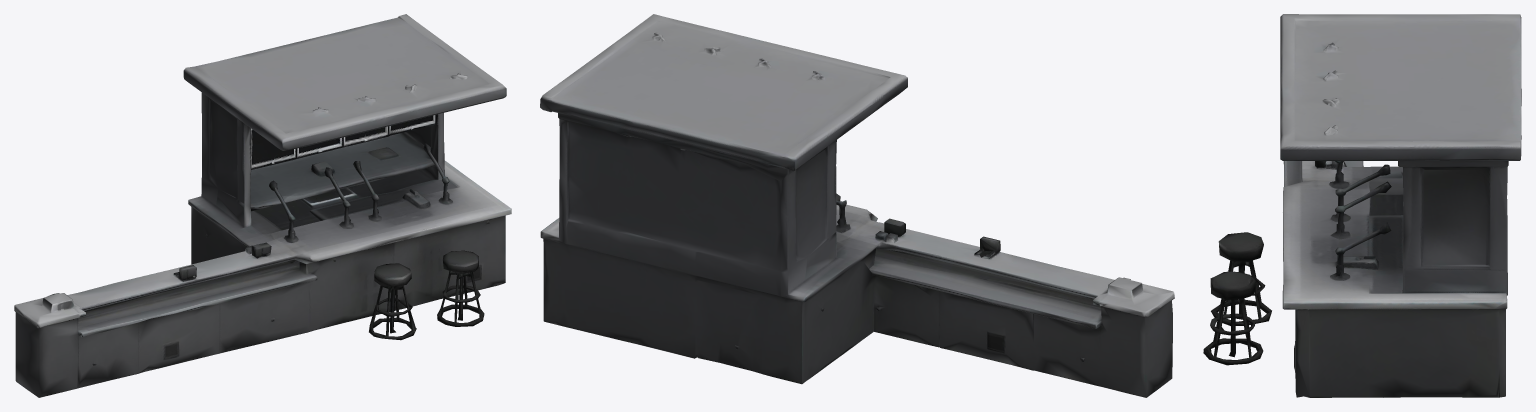
The model's file is bar counter 3d model.glb.
The picture shows the model from 3 angles, left to right: view 1: azimuth 30°, elevation 25°; view 2: azimuth 150°, elevation 25°; view 3: azimuth 270°, elevation 25°; orthographic projection. The views are drawn at different scales.
Parts seen in each view (by area): view 1: tripo_node_9d1a9b3d-2eb8-4850-b9a0-68de490cb338; view 2: tripo_node_9d1a9b3d-2eb8-4850-b9a0-68de490cb338; view 3: tripo_node_9d1a9b3d-2eb8-4850-b9a0-68de490cb338.
Part boxes in pixels (x1=…): tripo_node_9d1a9b3d-2eb8-4850-b9a0-68de490cb338: x1=14, y1=14, x2=511, y2=397; tripo_node_9d1a9b3d-2eb8-4850-b9a0-68de490cb338: x1=540, y1=14, x2=1174, y2=397; tripo_node_9d1a9b3d-2eb8-4850-b9a0-68de490cb338: x1=1203, y1=14, x2=1521, y2=397.
Bounding box in the file's own units: 1 × 0.4204 × 0.4807.
Materials: 1 (1 with a texture image).
